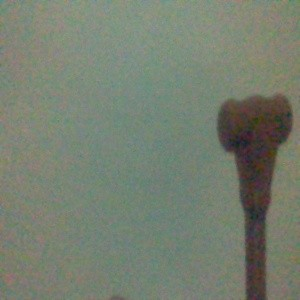palu: (216, 93, 294, 300)
